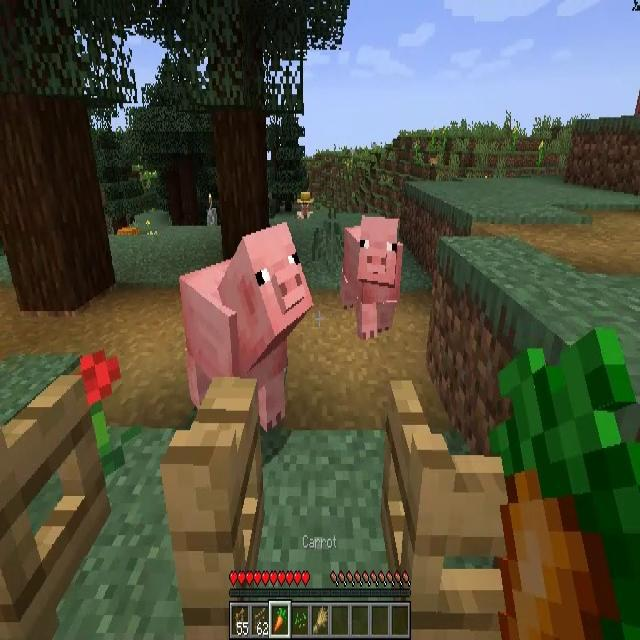pig: (182, 224, 312, 421), (340, 217, 401, 335)
